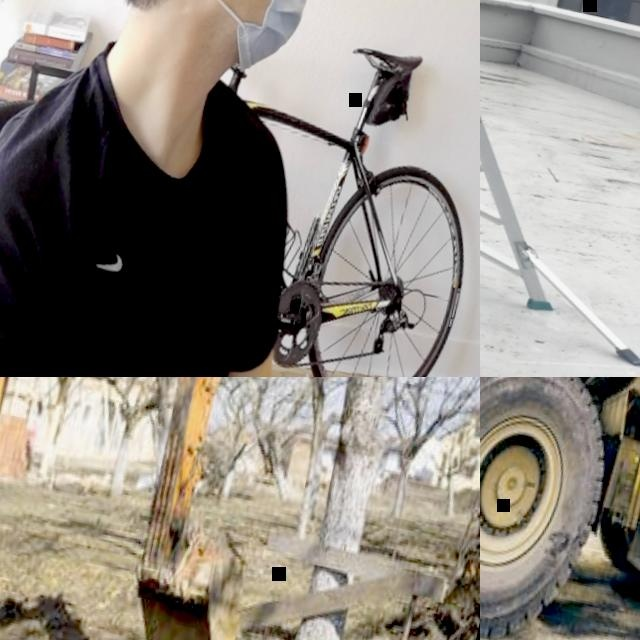Mask: (196, 0, 325, 88)
NO-Safety Vest: (0, 52, 288, 377)
Person: (0, 0, 420, 377)
machinery: (0, 377, 338, 640), (480, 377, 640, 640)
